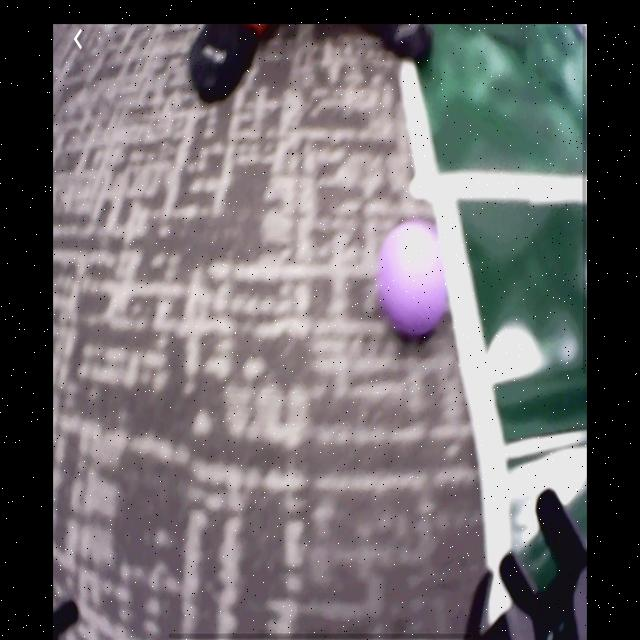ball: (380, 224, 449, 336), (379, 211, 382, 212)
